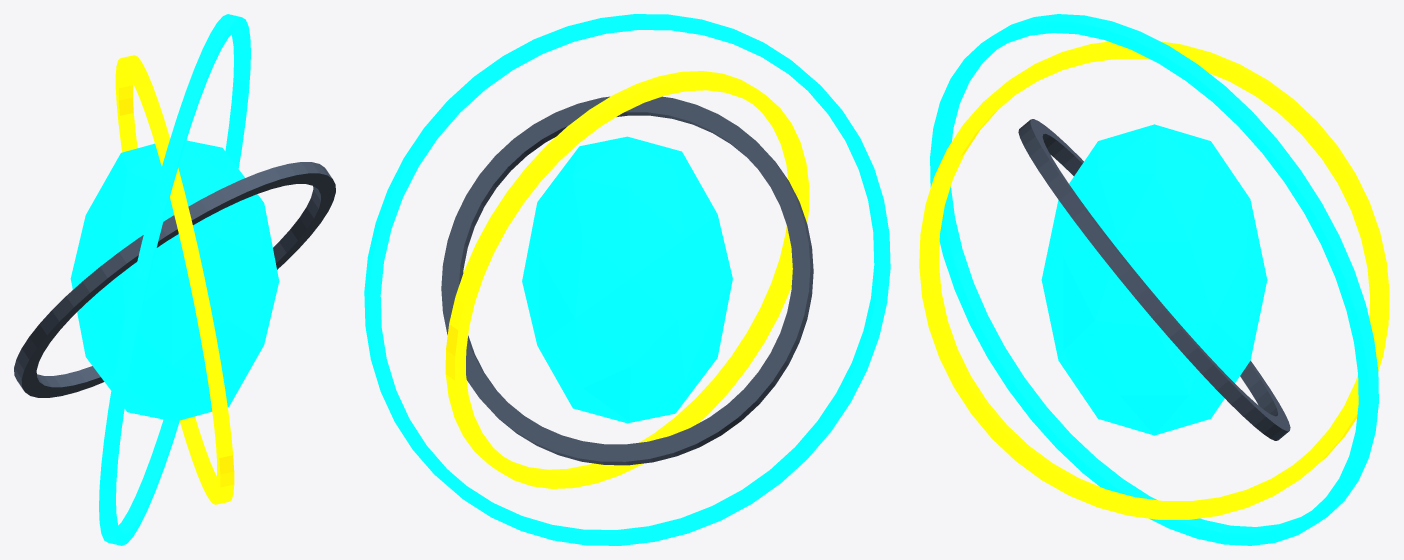
Rendered from pillar_events.glb.
3 renders of one model, left to right at view 1: azimuth 30°, elevation 25°; view 2: azimuth 150°, elevation 25°; view 3: azimuth 270°, elevation 25°, orthographic. The views are drawn at different scales.
Parts seen in each view (by area): view 1: EventCrystal, Gimbal_2, Gimbal_0, Gimbal_1; view 2: EventCrystal, Gimbal_2, Gimbal_1, Gimbal_0; view 3: EventCrystal, Gimbal_2, Gimbal_1, Gimbal_0.
Boxes of the visible parts, x1,y1,x2,y2 form: EventCrystal: (70, 140, 279, 421); Gimbal_2: (99, 14, 250, 545); Gimbal_0: (14, 162, 335, 397); Gimbal_1: (115, 55, 234, 504); EventCrystal: (522, 136, 732, 423); Gimbal_2: (364, 14, 890, 545); Gimbal_1: (445, 71, 809, 488); Gimbal_0: (441, 96, 813, 465); EventCrystal: (1041, 124, 1267, 435); Gimbal_2: (930, 14, 1378, 545); Gimbal_1: (919, 41, 1389, 519); Gimbal_0: (1018, 119, 1290, 440).
Size of the model in its own units: 2.12 by 3.01 by 2.44.
